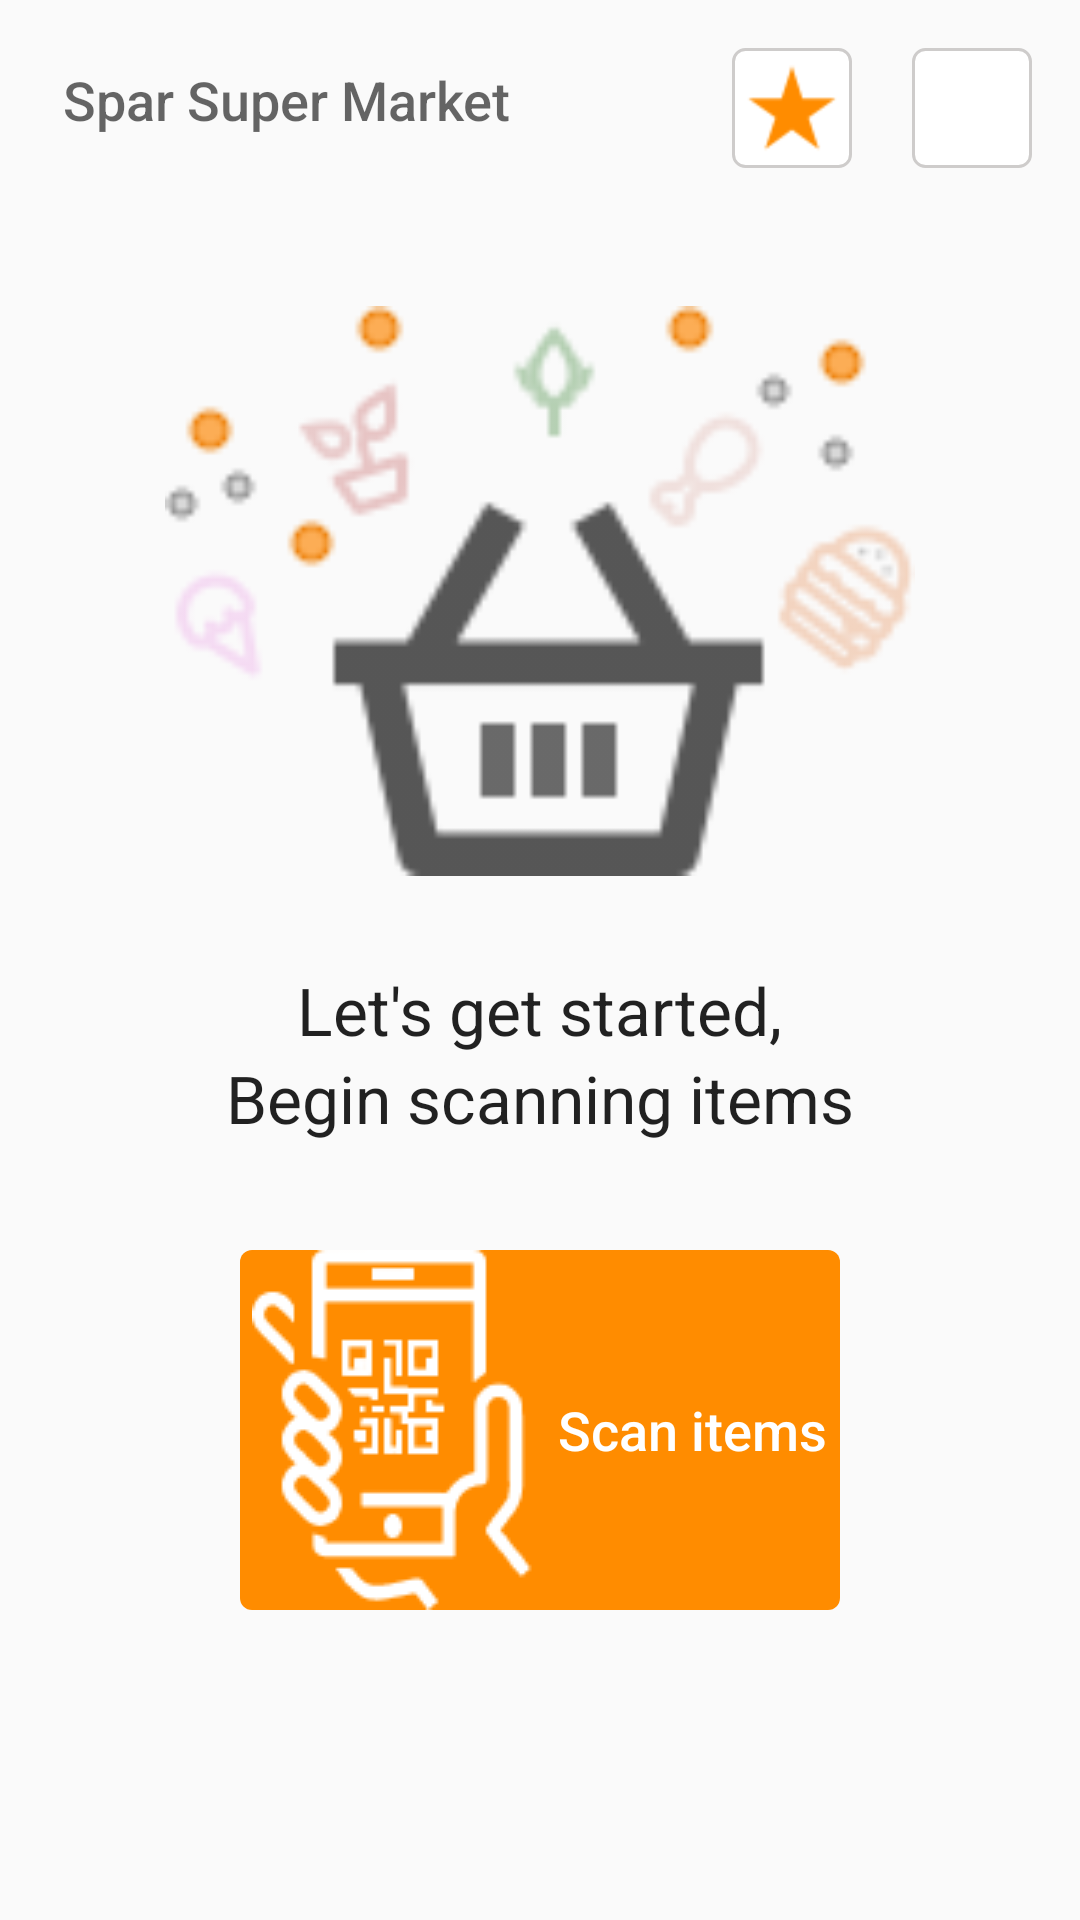

Icons on this 1080 × 1920 Android screen, each with the point to tap as (x=x, y=y):
fav: (x=792, y=108)
